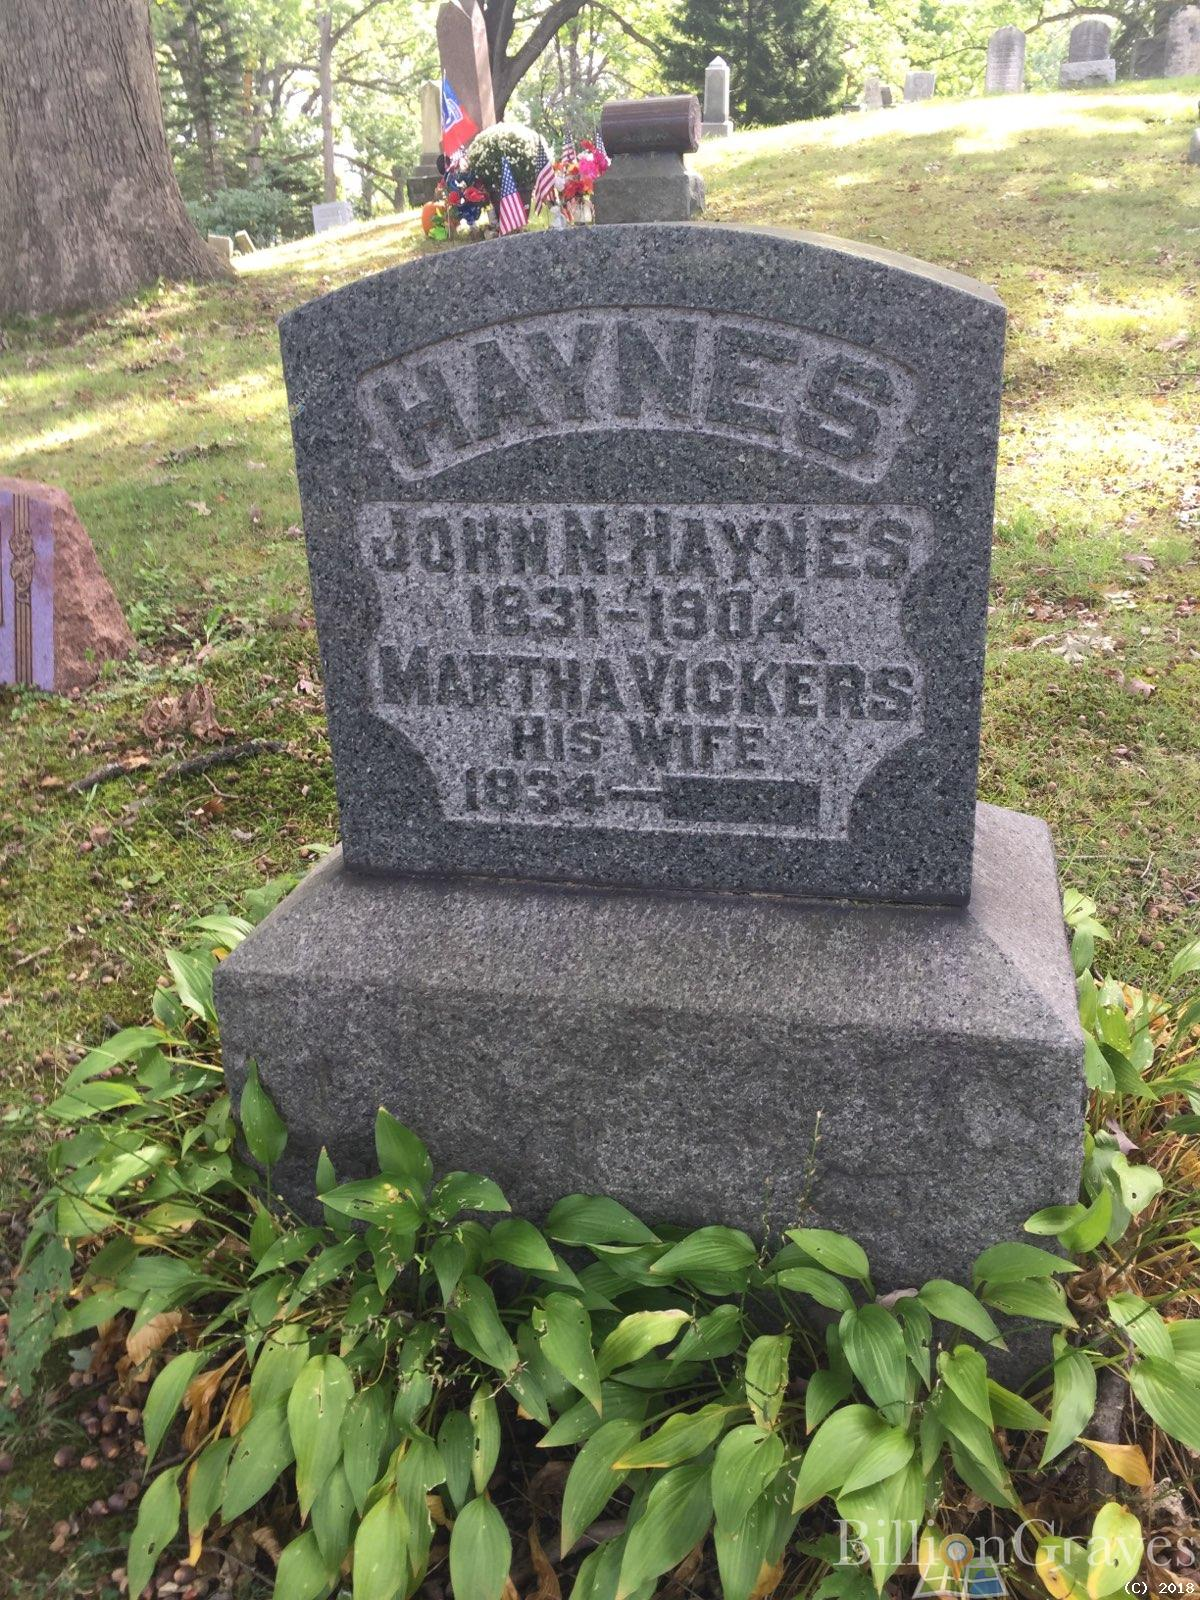upright: (183, 202, 1131, 1231)
